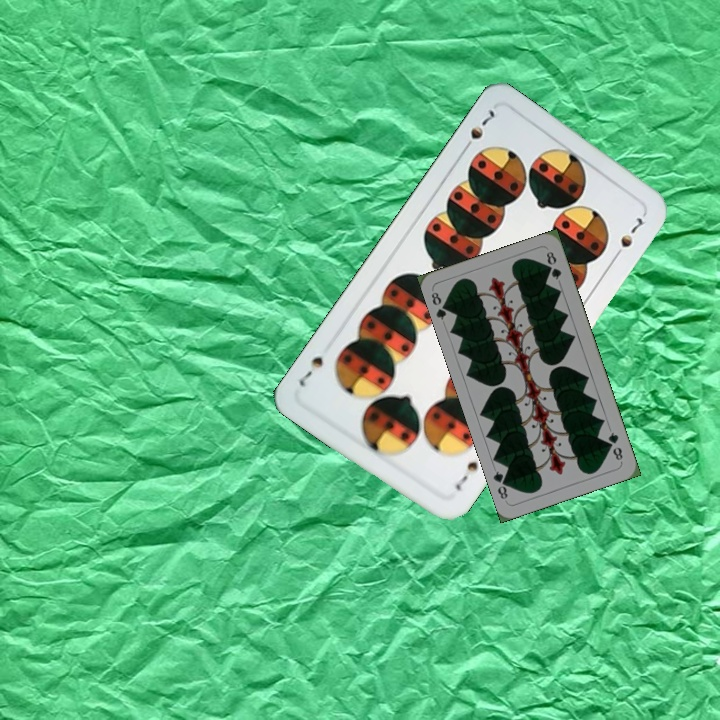G8: (427, 288, 453, 323), (604, 428, 625, 463)
S7: (458, 105, 498, 155), (451, 456, 481, 494)
